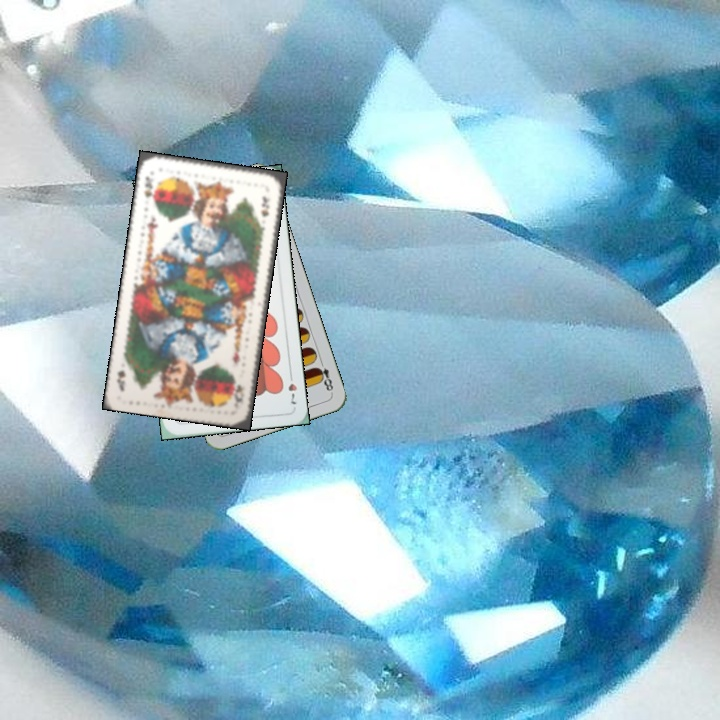E8: (312, 356, 336, 396)
H7: (284, 368, 300, 407)
SK: (140, 172, 158, 206), (230, 381, 247, 409)
